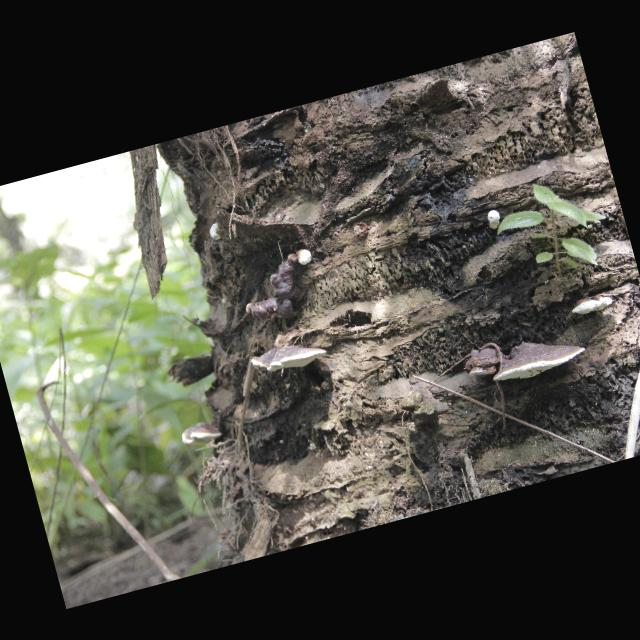ganoderma: (487, 328, 590, 389), (242, 254, 312, 330), (250, 336, 329, 381), (460, 344, 506, 382), (179, 419, 223, 450), (570, 292, 615, 319)
primordium: (486, 209, 504, 232), (296, 247, 314, 267), (208, 223, 223, 243), (245, 302, 256, 316)
